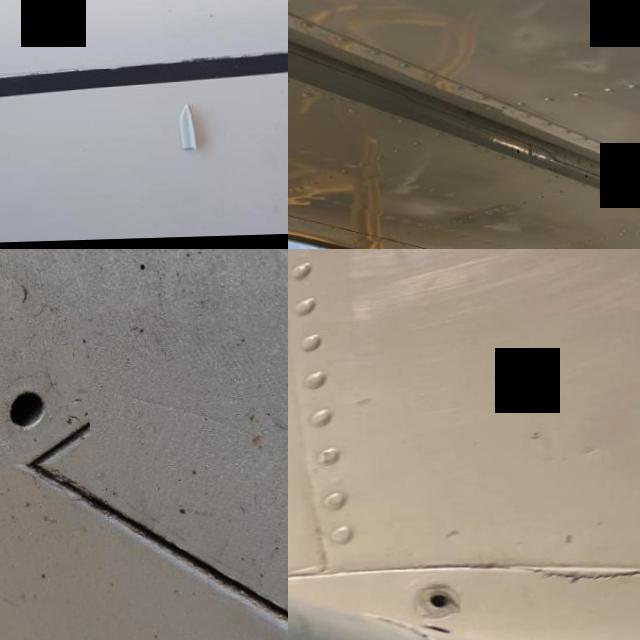Crack: (470, 533, 640, 594)
Missing_Fastener: (0, 346, 86, 467), (407, 589, 453, 616)
